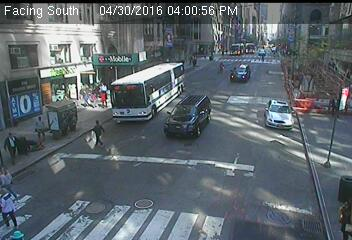neg: (331, 98, 345, 117), (304, 72, 318, 91), (281, 38, 294, 55), (335, 63, 347, 79), (290, 60, 301, 75), (207, 46, 217, 60), (219, 41, 229, 54)
pos: (83, 117, 110, 152), (28, 114, 52, 146), (336, 201, 351, 239), (95, 80, 115, 107), (74, 82, 92, 105), (88, 89, 99, 104), (217, 61, 226, 73)
